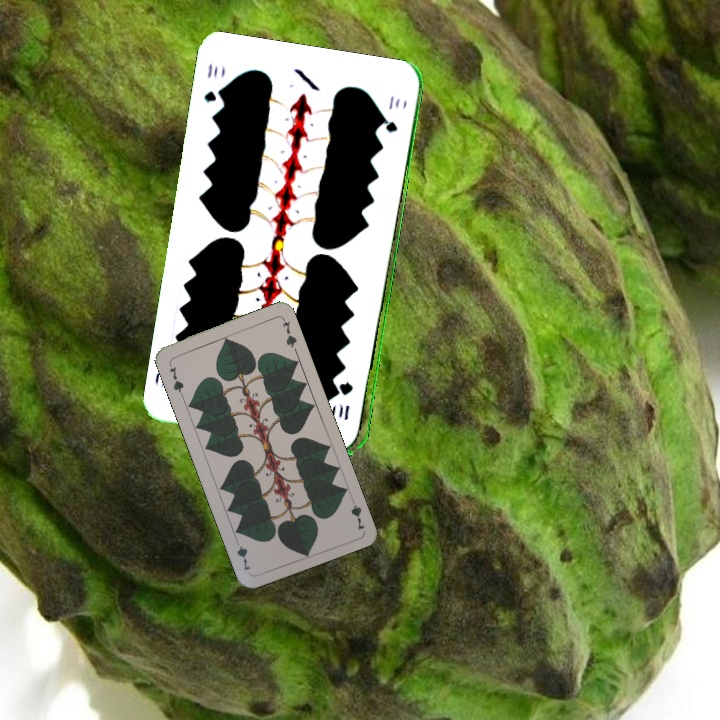G10: (200, 60, 226, 105), (339, 377, 356, 423)
G7: (165, 358, 186, 398), (346, 492, 367, 532)
